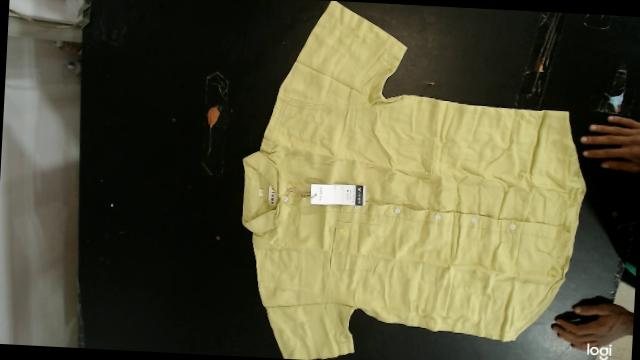new-garment: (242, 0, 585, 359)
